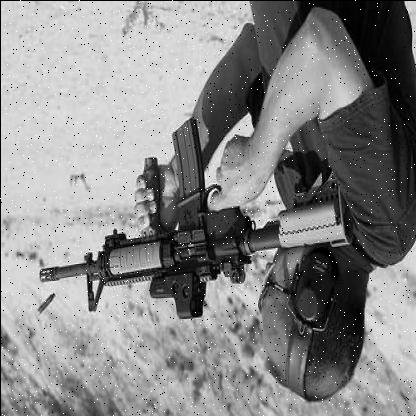rifle: (29, 94, 355, 356)
